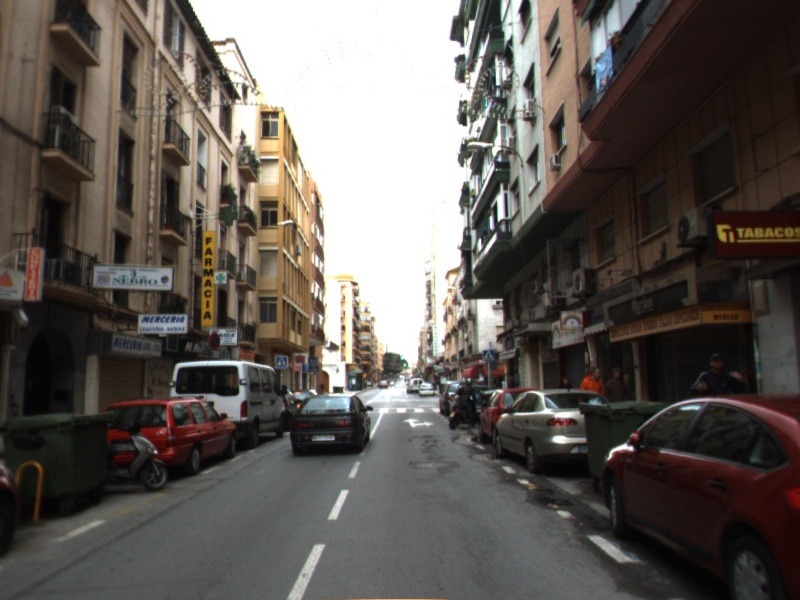STRAIGHT_RIGHT: (401, 416, 437, 429)
